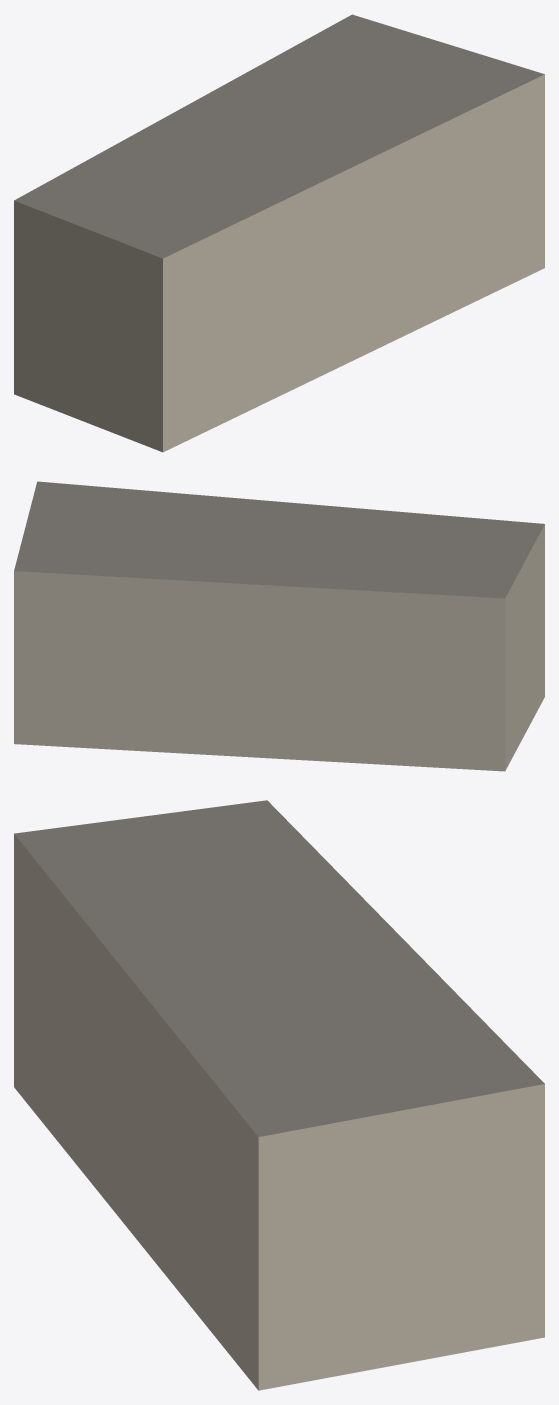
The picture shows the model from 3 angles, top to bottom: view 1: azimuth 30°, elevation 25°; view 2: azimuth 150°, elevation 25°; view 3: azimuth 270°, elevation 25°; orthographic projection. The views are drawn at different scales.
Visible parts, largest first — view 1: HP-w505661363; view 2: HP-w505661363; view 3: HP-w505661363.
Boxes of the visible parts, box(x1,y1,x2,y2) form: HP-w505661363: box(14, 14, 544, 452); HP-w505661363: box(14, 481, 544, 771); HP-w505661363: box(14, 800, 544, 1390).
Size of the model in its own units: 34.19 by 12 by 22.77.
